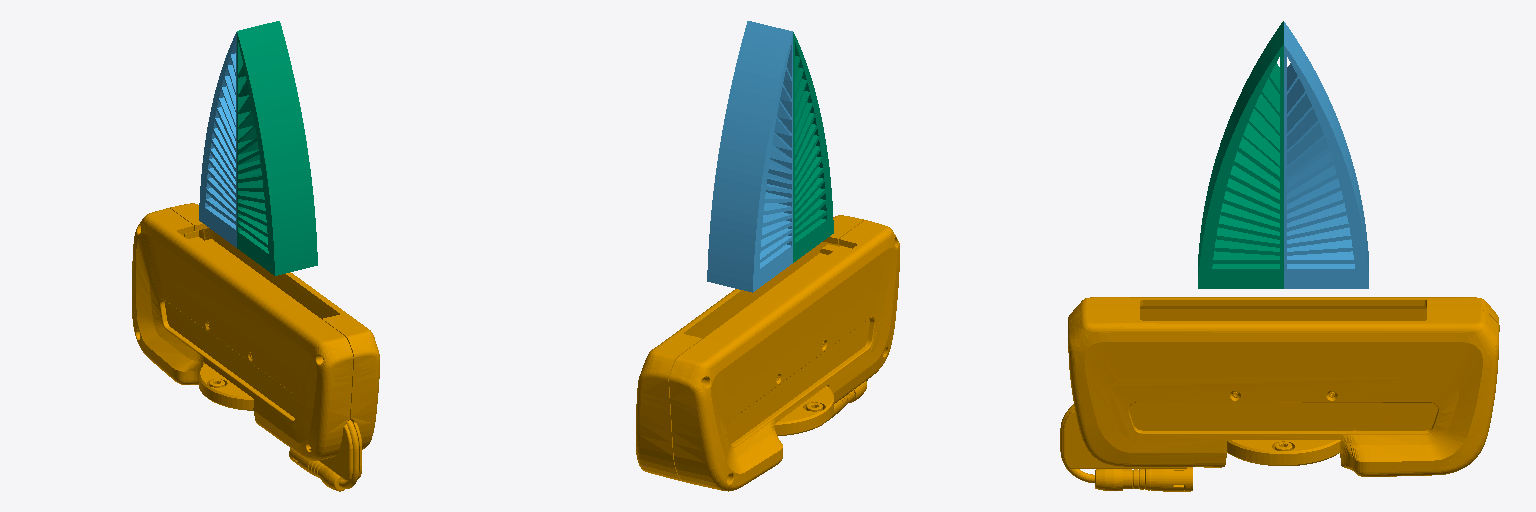
robot.urdf — panda:
<?xml version="1.0" ?>
<!-- =================================================================================== -->
<!-- |    This document was autogenerated by xacro from panda_arm_hand.urdf.xacro      | -->
<!-- |    EDITING THIS FILE BY HAND IS NOT RECOMMENDED                                 | -->
<!-- =================================================================================== -->
<robot name="panda" xmlns:xacro="http://www.ros.org/wiki/xacro">
 
  <link name="panda_hand">
  	<inertial>
      <origin rpy="0 0 0" xyz="0.001540105015344	0.001492254522239	0.002826647554898"/>
       <mass value=".81"/>
       <inertia ixx="0.1" ixy="0" ixz="0" iyy="0.1" iyz="0" izz="0.1"/>
    </inertial>
    <visual>
      <geometry>
        <mesh filename="./meshes/visual/hand.obj"/>
      </geometry>
      <material name="panda_white"/>
    </visual>
    <collision>
      <geometry>
        <mesh filename="./meshes/collision/hand.obj"/>
      </geometry>
      <material name="panda_white"/>
    </collision>
  </link>
  <link name="panda_leftfinger">
    <inertial>
      <mass value="0.099" />
      <origin rpy="0 0 0" xyz="0 0.029 0.0545" />
      <inertia ixx="0.000135" ixy="0.0" ixz="0.0" iyy="0.000128" iyz="0.000012" izz="0.000021" />
    </inertial>
    <visual>
      <!-- Translation chosen so that the finger visuals exactly meet in the
            middle of the gripper just as they do on hardware.
        -->
      <origin rpy="0 0 0" xyz="0 0.01 0" />
      <geometry>
        <mesh filename="franka_fr3/TRI_gripper_L.obj" scale="1 1 1" />
      </geometry>
    </visual>
    <collision name="finray_finger_L_mount_collision">
      <origin rpy="0 0 -1.57079632679" xyz="0 0.01 0" />
      <geometry>
        <mesh filename="franka_fr3/finray_finger_L_mount_low.obj" scale="1 1 1" />
      </geometry>
    </collision>
    <collision name="finray_finger_L_body_collision">
      <origin rpy="0 0 -1.57079632679" xyz="0 0.01 0" />
      <geometry>
        <mesh filename="franka_fr3/finray_finger_L.obj" scale="1 1 1" />
      </geometry>
    </collision>
  </link>
  <link name="panda_rightfinger">
    <inertial>
      <mass value="0.099" />
      <origin rpy="0 0 0" xyz="0 -0.029 0.0545" />
      <inertia ixx="0.000135" ixy="0.0" ixz="0.0" iyy="0.000128" iyz="-0.000012" izz="0.000021" />
    </inertial>
    <visual>
      <!-- Translation chosen so that the finger visuals exactly meet in the
            middle of the gripper just as they do on hardware.
        -->
      <origin rpy="0 0 0" xyz="0 -0.01 0" />
      <geometry>
        <mesh filename="franka_fr3/TRI_gripper_R.obj" scale="1 1 1" />
      </geometry>
    </visual>
    <collision name="finray_finger_R_mount_collision">
      <origin rpy="0 0 -1.57079632679" xyz="0 -0.01 0" />
      <geometry>
        <mesh filename="franka_fr3/finray_finger_R_mount_low.obj" scale="1 1 1" />
      </geometry>
    </collision>
    <collision name="finray_finger_R_body_collision">
      <origin rpy="0 0 -1.57079632679" xyz="0 -0.01 0" />
      <geometry>
        <mesh filename="franka_fr3/finray_finger_R.obj" scale="1 1 1" />
      </geometry>
    </collision>
  </link>
  <joint name="panda_finger_joint1" type="prismatic">
    <parent link="panda_hand" />
    <child link="panda_leftfinger" />
    <origin rpy="0 0 0" xyz="0 -0.01 0.0584" />
    <axis xyz="0 1 0" />
    <limit effort="20" lower="0.0" upper="0.041" velocity="0.2" />
  </joint>
  <joint name="panda_finger_joint2" type="prismatic">
    <parent link="panda_hand" />
    <child link="panda_rightfinger" />
    <origin rpy="0 0 0" xyz="0 0.01 0.0584" />
    <axis xyz="0 1 0" />
    <limit effort="20" lower="-0.041" upper="0.0" velocity="0.2" />
  </joint>
  <link name="panda_grasptarget">
    <inertial>
      <origin rpy="0 0 0" xyz="0 0 0"/>
       <mass value="0.0"/>
       <inertia ixx="0.1" ixy="0" ixz="0" iyy="0.1" iyz="0" izz="0.1"/>
    </inertial>
  </link>
  <joint name="panda_grasptarget_hand" type="fixed">
    <parent link="panda_hand"/>
    <child link="panda_grasptarget"/>
    <origin rpy="0 0 0" xyz="0 0 0.105"/>
  </joint>
  
</robot>

--- Render facts (derived) ---
3 views of the same robot in one strip: view 1: azimuth 30°, elevation 25°; view 2: azimuth 150°, elevation 25°; view 3: azimuth 270°, elevation 25° (orthographic).
Robot: panda — 4 links, 3 joints (2 prismatic, 1 fixed); root link panda_hand; default pose: all joints at 0.
Visible links, largest first — view 1: panda_hand, panda_rightfinger, panda_leftfinger; view 2: panda_hand, panda_leftfinger, panda_rightfinger; view 3: panda_hand, panda_rightfinger, panda_leftfinger.
Link boxes in pixels (x1,y1,x2,y2): panda_hand: (132, 203, 379, 491); panda_rightfinger: (237, 21, 317, 275); panda_leftfinger: (199, 32, 236, 247); panda_hand: (636, 215, 899, 491); panda_leftfinger: (707, 21, 792, 292); panda_rightfinger: (793, 32, 833, 262); panda_hand: (1060, 297, 1499, 491); panda_rightfinger: (1198, 21, 1283, 288); panda_leftfinger: (1284, 22, 1368, 288).
Size in the robot's own frame: 0.0627 by 0.2046 by 0.2354 metres.
Meshes: 3 distinct files referenced, 3 mesh visuals loaded (3 OBJ).